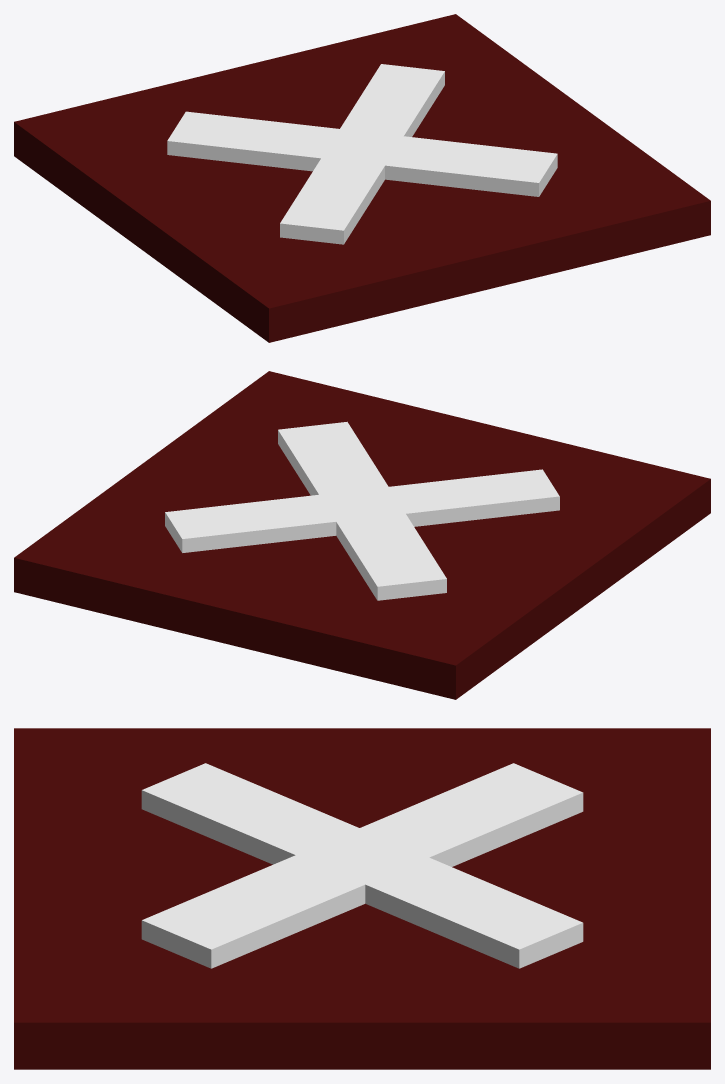
The model's file is exit.obj.
3 renders of one model, top to bottom at view 1: azimuth 30°, elevation 25°; view 2: azimuth 150°, elevation 25°; view 3: azimuth 270°, elevation 25°, orthographic. The views are drawn at different scales.
Visible parts, largest first — view 1: Cube; view 2: Cube; view 3: Cube.
Boxes of the visible parts, <box> form: Cube: <box>14,14,710,342</box>; Cube: <box>14,371,710,699</box>; Cube: <box>14,728,710,1069</box>.
Bounding box in the file's own units: 2 × 0.2093 × 2.
